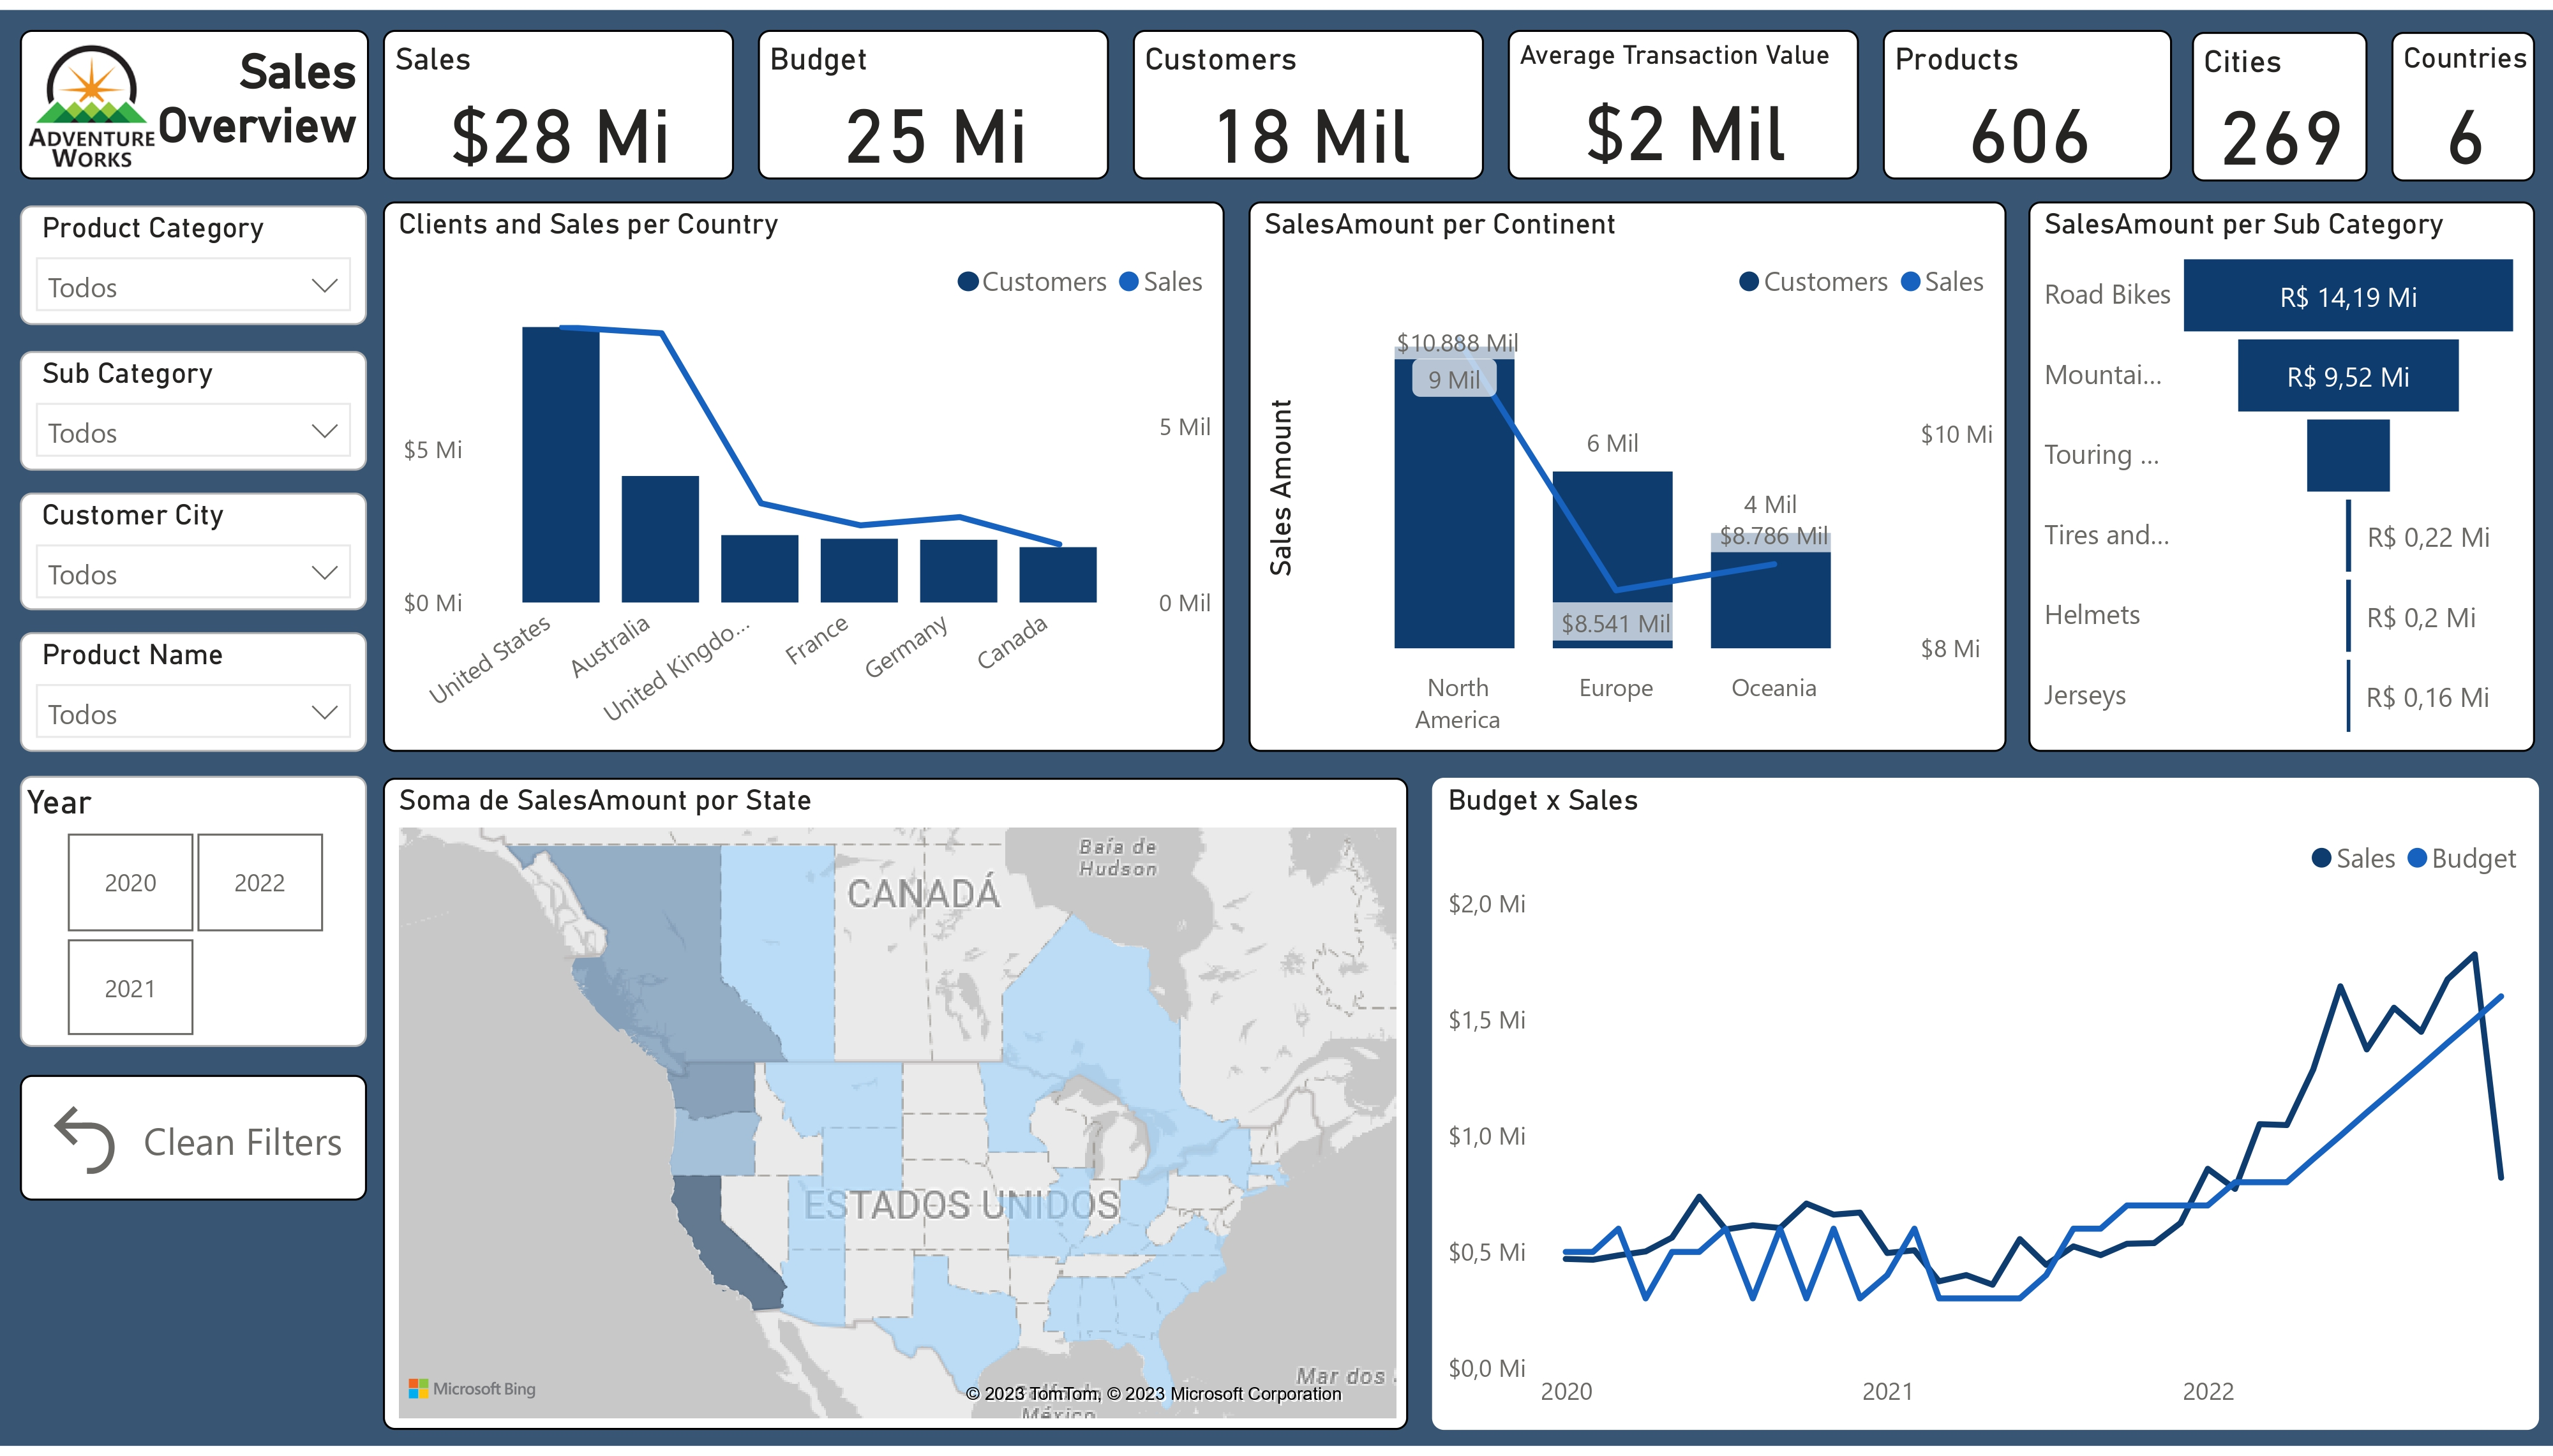

The dashboard page shown, as its layout file describes it:
{"tool":"powerbi","page":{"name":"Overview","canvas":[1280,720],"ordinal":0},"visuals":[{"type":"slicer","fields":{"Values":["dProduct.Product Category"]},"box":[9.9,98.4,173.7,60.3],"z":0},{"type":"slicer","fields":{"Values":["dProduct.Sub Category"]},"box":[9.9,170.8,173.7,60.3],"z":1000},{"type":"slicer","fields":{"Values":["dCustomer.Customer City"]},"box":[9.9,241.9,173.7,59.1],"z":2000},{"type":"slicer","fields":{"Values":["dProduct.Product Name"]},"box":[9.9,311.9,173.7,60.3],"z":3000},{"type":"slicer","title":"Year","fields":{"Values":["dCalendar.Ano"]},"box":[9.9,384.2,173.7,136.3],"z":4000},{"type":"lineChart","title":"Budget x Sales","fields":{"Category":["dCalendar.FullDateAlternateKey.Variation.Hierarquia de datas.Ano","dCalendar.FullDateAlternateKey.Variation.Hierarquia de datas.Mês"],"Y":["Key Measures.Sales","Key Measures.Budget"]},"box":[717.6,384.7,554.8,326.8],"z":5000},{"type":"lineStackedColumnComboChart","title":"Clients and Sales per Country","fields":{"Category":["dCustomer.Customer Country"],"Y":["Key Measures.Customers Qty."],"Y2":["Key Measures.Sales"]},"box":[191.8,96.5,422.1,276.2],"z":6000},{"type":"funnel","title":"SalesAmount per Sub Category","fields":{"Y":["Sum(fSales.SalesAmount)"],"Category":["dProduct.Sub Category"]},"box":[1016.7,96.5,254.5,276.2],"z":7000},{"type":"lineStackedColumnComboChart","title":"SalesAmount per Continent","fields":{"Y":["Key Measures.Customers Qty."],"Y2":["Key Measures.Sales"],"Category":["dCustomer.Continent"]},"box":[625.9,96.5,379.9,276.2],"z":8000},{"type":"card","title":"Sales","fields":{"Values":["Key Measures.Sales"]},"box":[191.8,9.6,176.1,75],"z":9000},{"type":"card","title":"Budget","fields":{"Values":["Key Measures.Budget Sum"]},"box":[379.9,9.6,176.1,75],"z":10000},{"type":"card","title":"Customers","fields":{"Values":["Key Measures.Customers Qty."]},"box":[568,9.6,176.1,75],"z":11000},{"type":"card","title":"Average Transaction Value","fields":{"Values":["Key Measures.Average Transaction Value"]},"box":[756.2,9.6,176.1,75],"z":12000},{"type":"card","title":"Countries","fields":{"Values":["Count(dCustomer.Customer Country)"]},"box":[1198.8,10.9,72.4,74.8],"z":13000},{"type":"card","title":"Cities","fields":{"Values":["Count(dCustomer.Customer City)"]},"box":[1098.7,10.9,88,75],"z":14000},{"type":"card","title":"Products","fields":{"Values":["Count(dProduct.ProductKey)"]},"box":[944.3,9.6,144.7,75],"z":15000},{"type":"textbox","box":[9.6,9.6,174.9,74.8],"z":16000},{"type":"image","box":[6,0,79.6,96.5],"z":17000},{"type":"actionButton","box":[9.6,534.3,173.7,62.7],"z":18000},{"type":"filledMap","fields":{"Category":["dCustomer.State"]},"box":[191.8,384.7,513.8,326.8],"z":19000}]}

Visuals, with their boxes in screenshot pixels (x1, y1, x2, y2), scaled from the page's 1280x720 canvas onto the 2553x1456 screenshot:
slicer - dProduct.Product Category: region(20, 199, 366, 321)
slicer - dProduct.Sub Category: region(20, 345, 366, 467)
slicer - dCustomer.Customer City: region(20, 489, 366, 609)
slicer - dProduct.Product Name: region(20, 631, 366, 753)
"Year" slicer: region(20, 777, 366, 1053)
"Budget x Sales" lineChart: region(1431, 778, 2538, 1439)
"Clients and Sales per Country" lineStackedColumnComboChart: region(382, 195, 1224, 754)
"SalesAmount per Sub Category" funnel: region(2028, 195, 2535, 754)
"SalesAmount per Continent" lineStackedColumnComboChart: region(1248, 195, 2006, 754)
"Sales" card: region(382, 19, 734, 171)
"Budget" card: region(758, 19, 1109, 171)
"Customers" card: region(1133, 19, 1484, 171)
"Average Transaction Value" card: region(1508, 19, 1859, 171)
"Countries" card: region(2391, 22, 2535, 174)
"Cities" card: region(2191, 22, 2367, 174)
"Products" card: region(1883, 19, 2172, 171)
textbox: region(19, 19, 368, 171)
image: region(12, 0, 171, 195)
actionButton: region(19, 1080, 366, 1207)
filledMap - dCustomer.State: region(382, 778, 1407, 1439)
